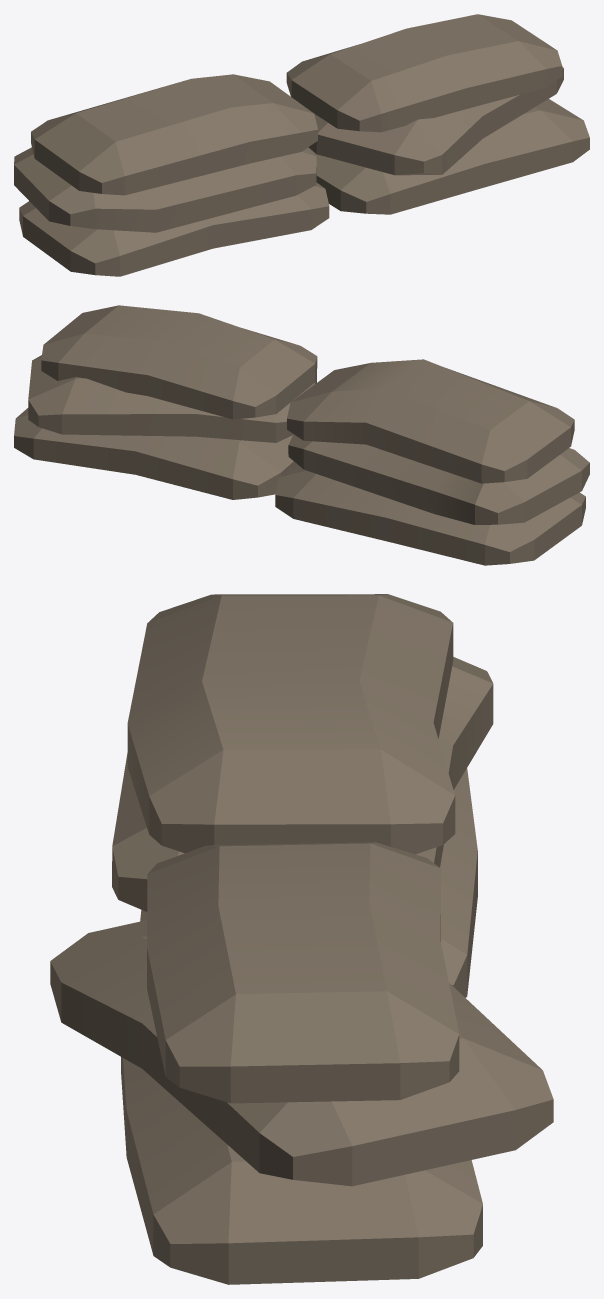
File: SM_Prop_Sack_02.glb
3 views of the same model, one above another, from view 1: azimuth 30°, elevation 25°; view 2: azimuth 150°, elevation 25°; view 3: azimuth 270°, elevation 25° (orthographic). The views are drawn at different scales.
Visible parts, largest first — view 1: SM_Prop_Sack_02; view 2: SM_Prop_Sack_02; view 3: SM_Prop_Sack_02.
Part boxes in pixels (box(x1,y1,x2,y2)): SM_Prop_Sack_02: box(14, 14, 589, 276); SM_Prop_Sack_02: box(14, 305, 589, 565); SM_Prop_Sack_02: box(50, 594, 553, 1284).
Bounding box in the file's own units: 0.0216 × 0.0054 × 0.00889.
